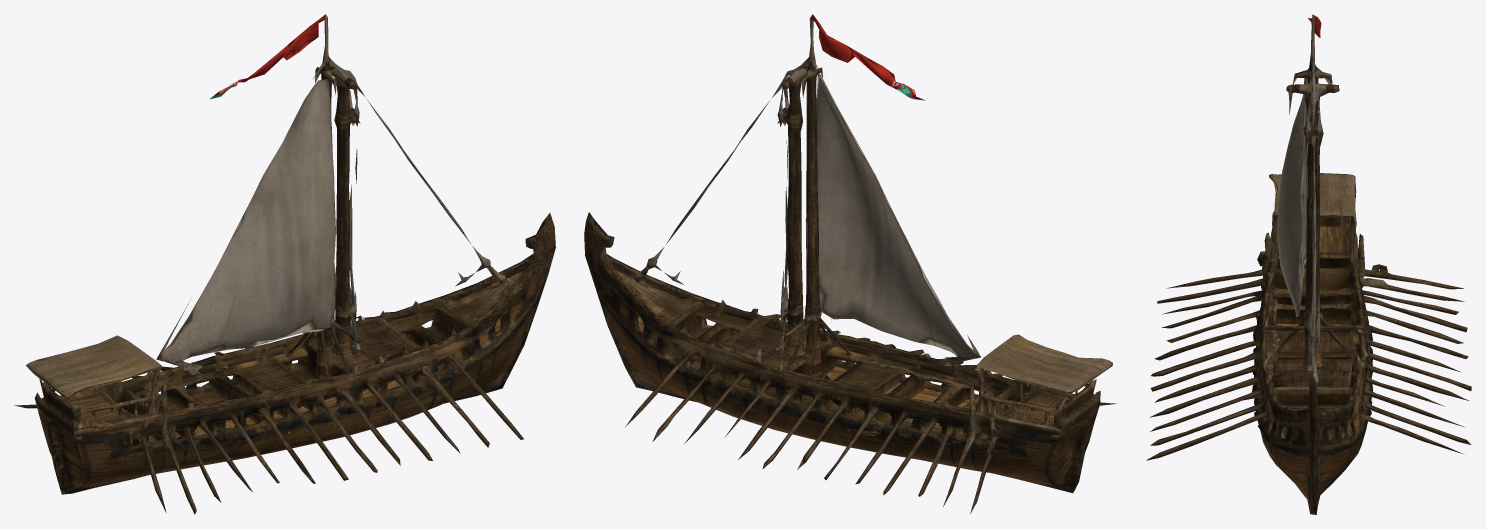
File: galley.glb
3 views of the same model, side by side, from view 1: azimuth 30°, elevation 25°; view 2: azimuth 150°, elevation 25°; view 3: azimuth 270°, elevation 25° (orthographic).
Visible parts, largest first — view 1: geometry_0; view 2: geometry_0; view 3: geometry_0.
Part boxes in pixels (box(x1,y1,x2,y2)): geometry_0: box(14, 14, 555, 514); geometry_0: box(584, 14, 1116, 513); geometry_0: box(1146, 14, 1471, 514).
Size of the model in its own units: 1 by 0.7849 by 0.5558.
1 material, 1 textured.
